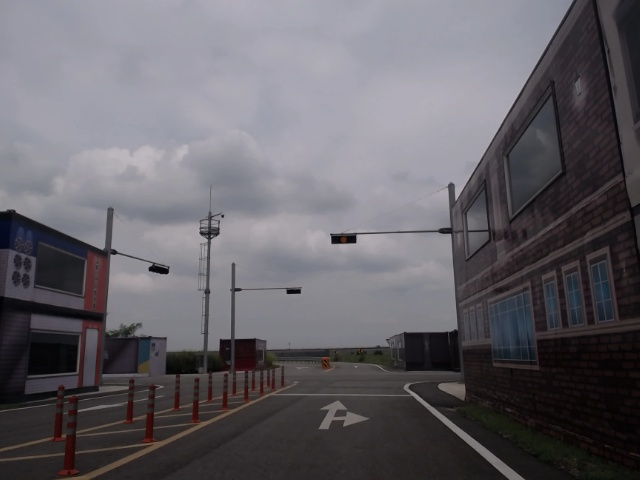orange_3: (331, 234, 357, 244)
